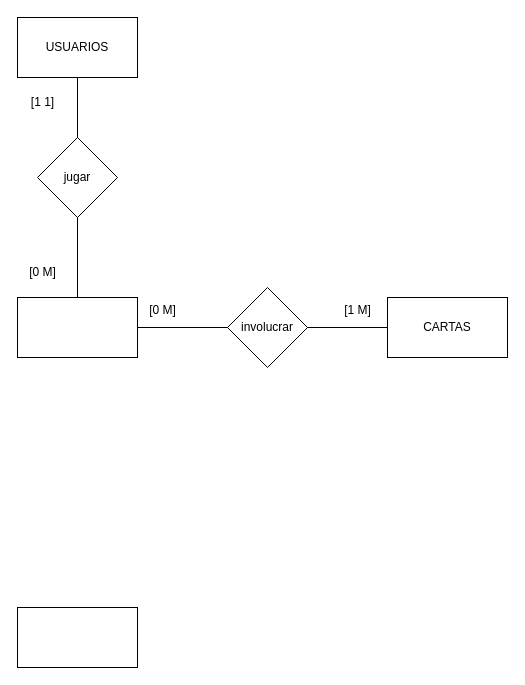
This 525x685 diagram has some shape labels left out. Each missing label, with the centre of its shape:
"CONFIG" belongs at point (77, 637).
"PARTIDAS" belongs at point (77, 327).
